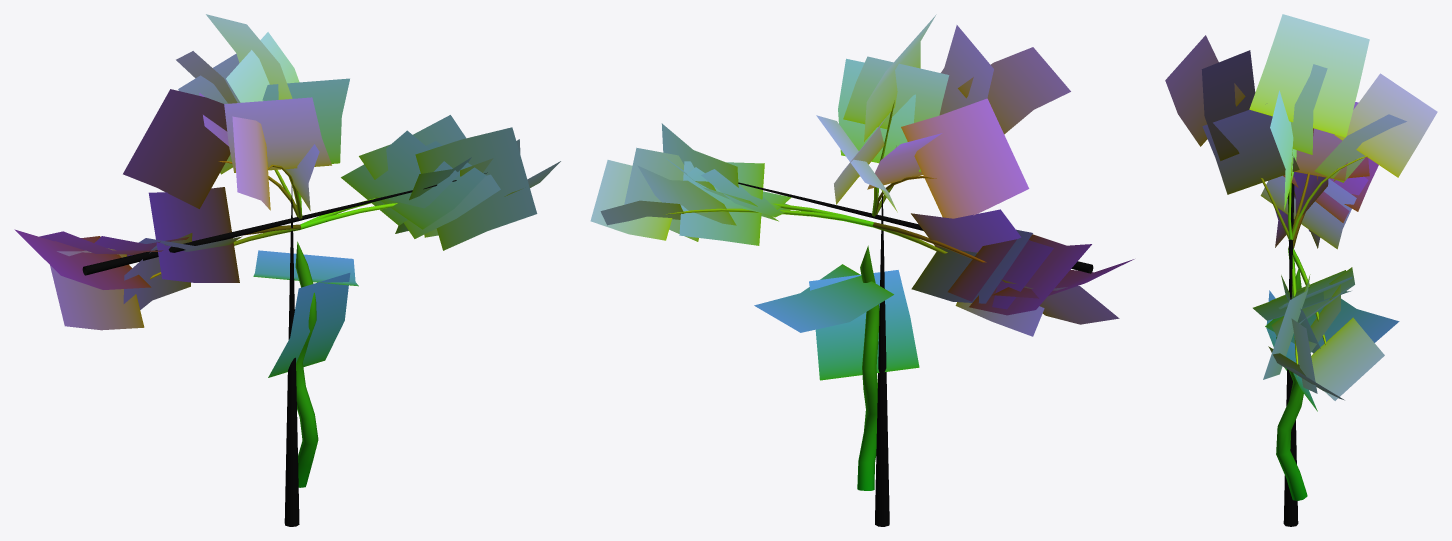
File: vitis_stake.glb
The picture shows the model from 3 angles, left to right: view 1: azimuth 30°, elevation 25°; view 2: azimuth 150°, elevation 25°; view 3: azimuth 270°, elevation 25°; orthographic projection. The views are drawn at different scales.
Visible parts, largest first — view 1: vitis_stake_lod0; view 2: vitis_stake_lod0; view 3: vitis_stake_lod0.
Part boxes in pixels (x1=…): vitis_stake_lod0: x1=14, y1=14, x2=560, y2=526; vitis_stake_lod0: x1=590, y1=14, x2=1134, y2=526; vitis_stake_lod0: x1=1165, y1=14, x2=1437, y2=526.
Size of what is drawn, in the model's own units: 3.1 by 2.97 by 1.51.
